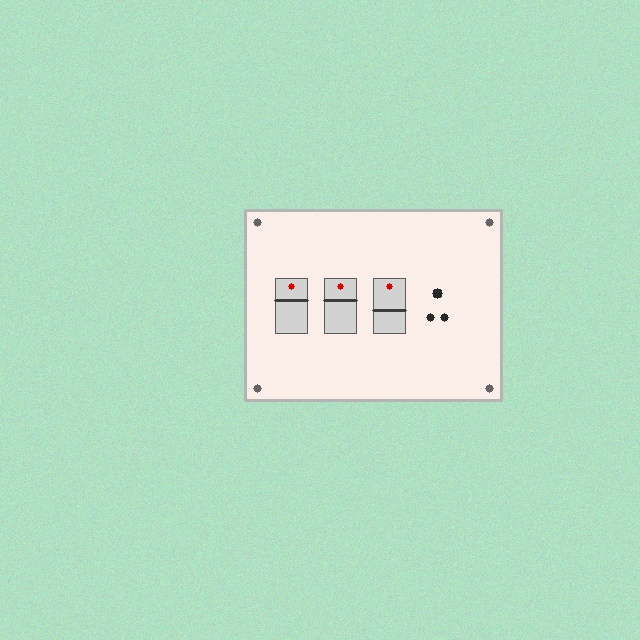switchboard: (245, 210, 501, 400)
